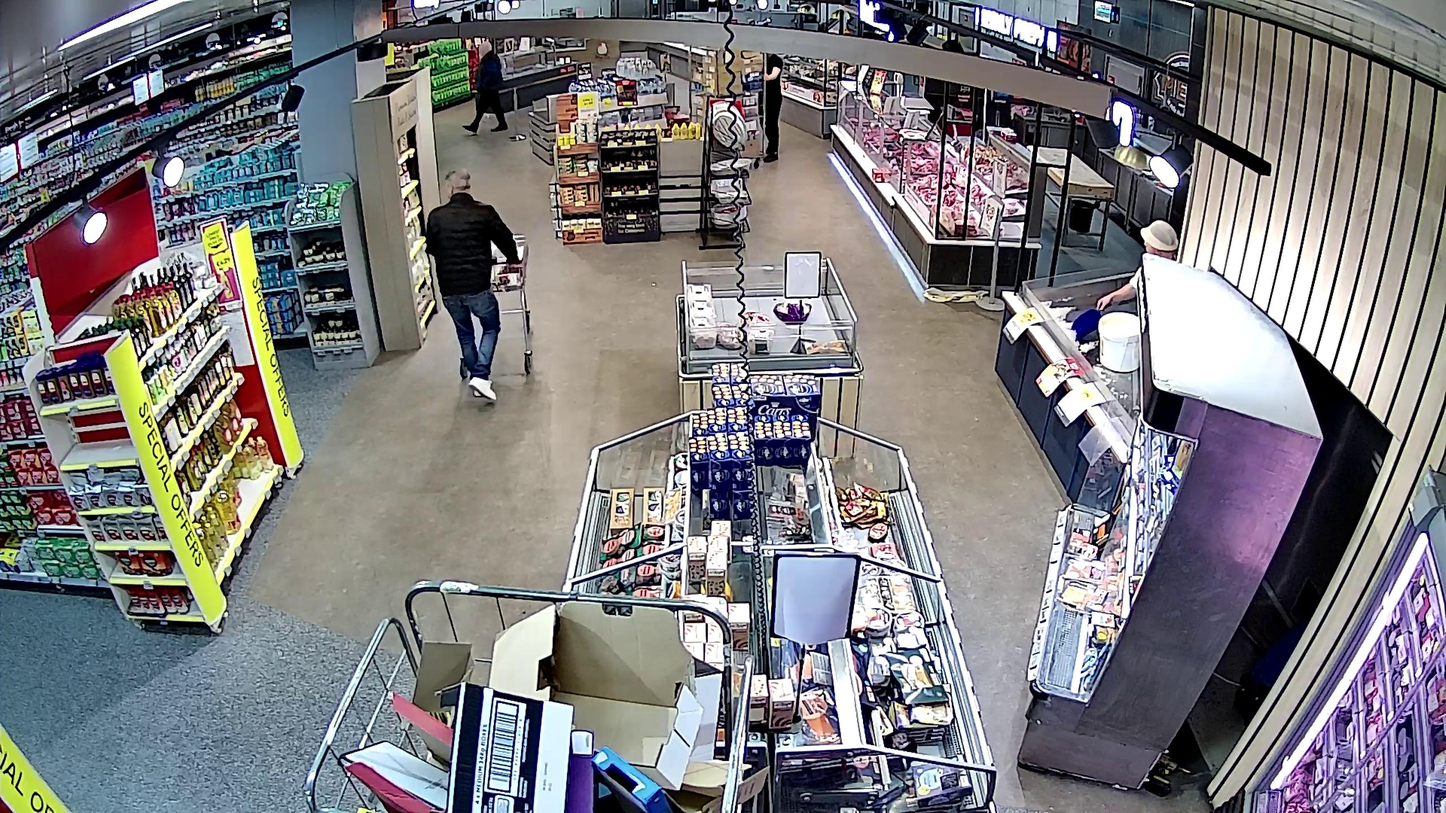filled-trolly: (459, 234, 532, 379)
person: (426, 169, 521, 401)
person-with-filled-basket-trolly: (427, 169, 532, 402)
